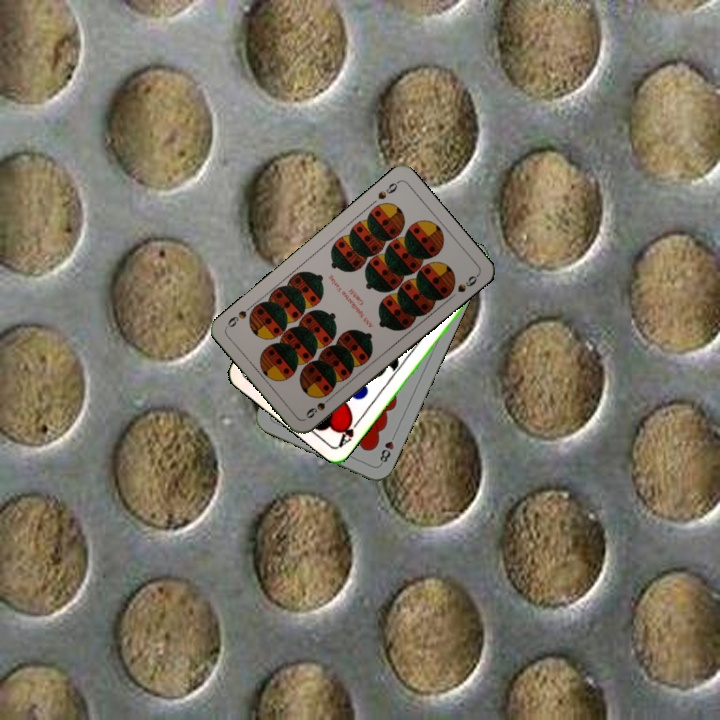H8: (375, 429, 399, 467)
HA: (334, 414, 364, 450)
S9: (301, 391, 336, 421), (374, 177, 401, 202)
